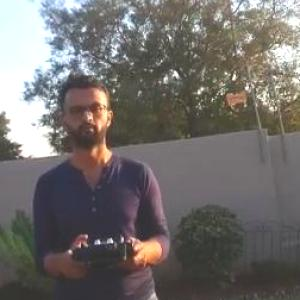follow: (18, 63, 174, 299)
